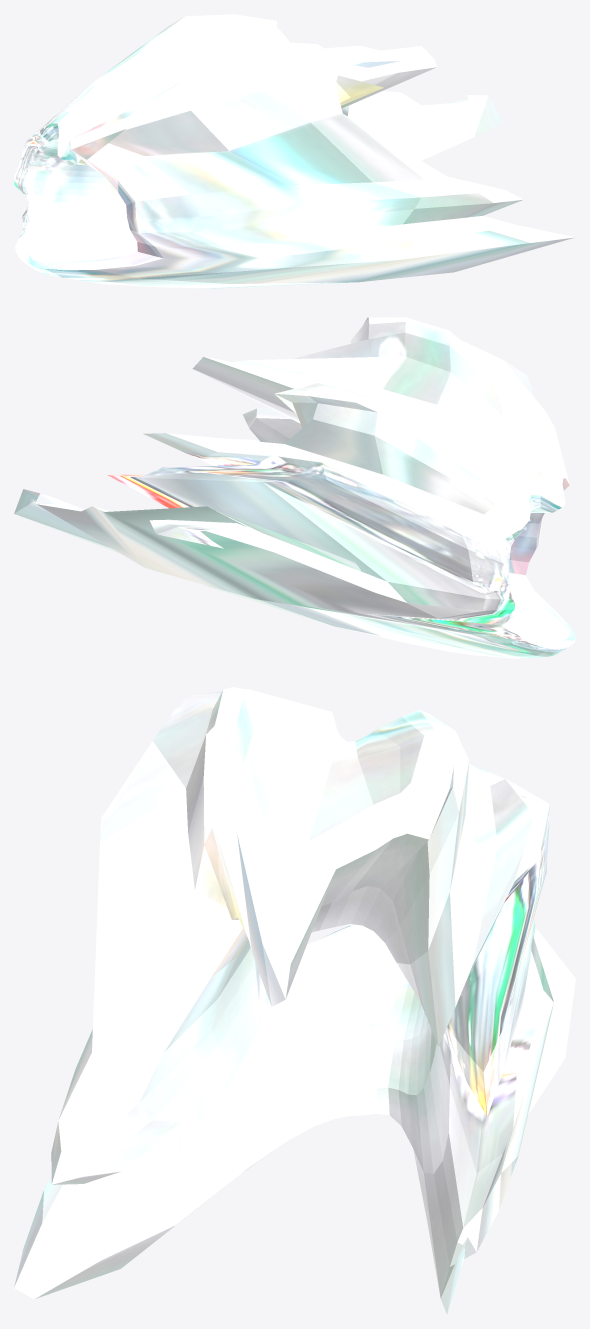
File: MISERABLE.gltf
The picture shows the model from 3 angles, top to bottom: view 1: azimuth 30°, elevation 25°; view 2: azimuth 150°, elevation 25°; view 3: azimuth 270°, elevation 25°; orthographic projection. The views are drawn at different scales.
Visible parts, largest first — view 1: Rosca; view 2: Rosca; view 3: Rosca.
Boxes of the visible parts, left/top/right/bottom form: Rosca: left=14, top=14, right=575, bottom=288; Rosca: left=14, top=317, right=575, bottom=658; Rosca: left=14, top=687, right=575, bottom=1314.
Size of the model in its own units: 10.83 by 5.22 by 6.18.
